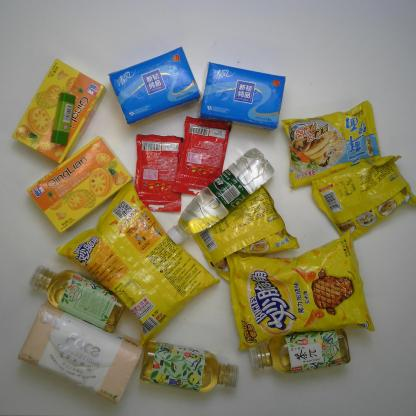Candy: (172, 115, 232, 198), (130, 132, 185, 216)
Dessert: (27, 135, 134, 233), (13, 57, 107, 166)
Drink: (164, 146, 274, 245), (28, 266, 124, 331), (139, 340, 241, 394), (250, 328, 352, 374)
Instant Noodles: (193, 186, 302, 274), (309, 153, 416, 242), (278, 99, 382, 189)
Puffed Food: (56, 182, 222, 343), (226, 230, 378, 351)
Stationery: (48, 92, 78, 145)
Tissue: (20, 301, 144, 403), (107, 47, 202, 124), (201, 61, 287, 131)
